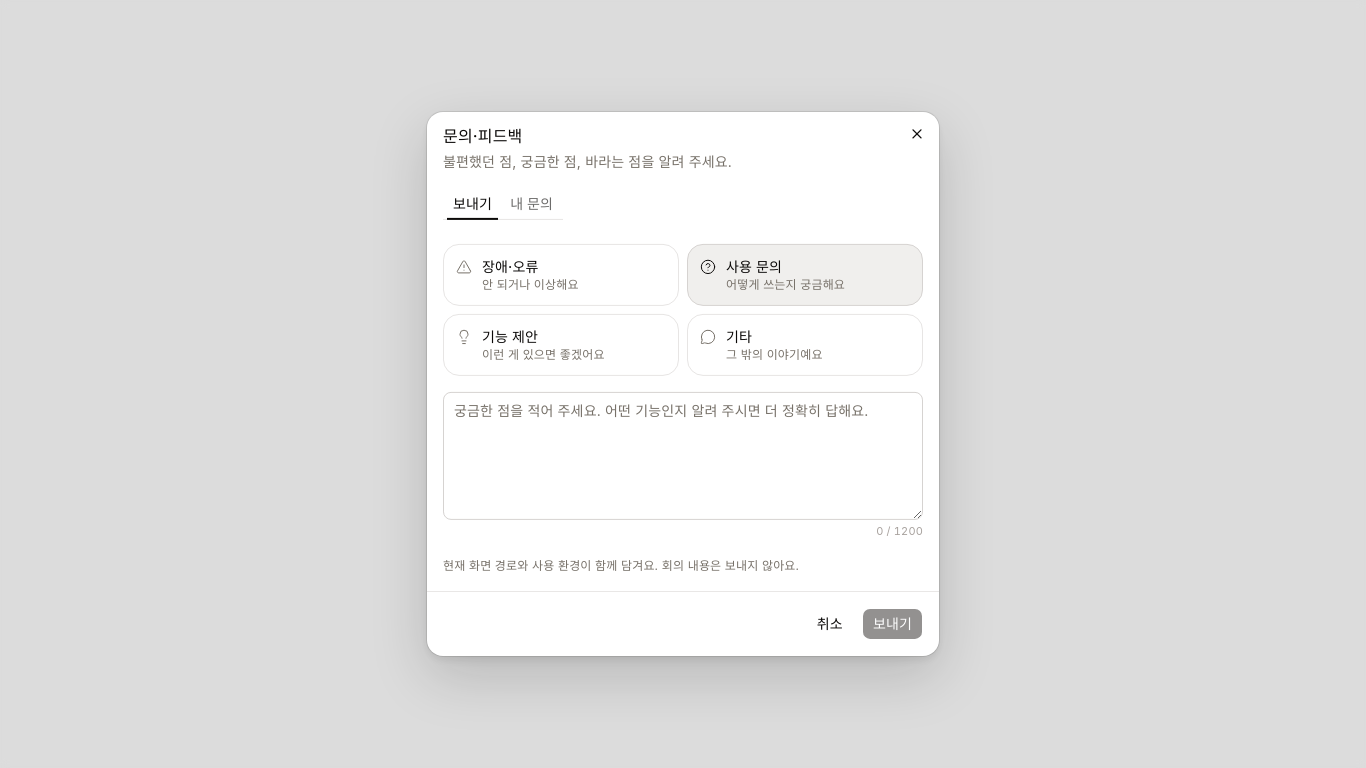
Test case: FeedbackDialog › 글자 수를 보여 주고 1200자에서 멈춘다
The image size is (1366, 768).
Type "가나다" into the text box named "내용" at [683, 456], box [443,392,923,520]
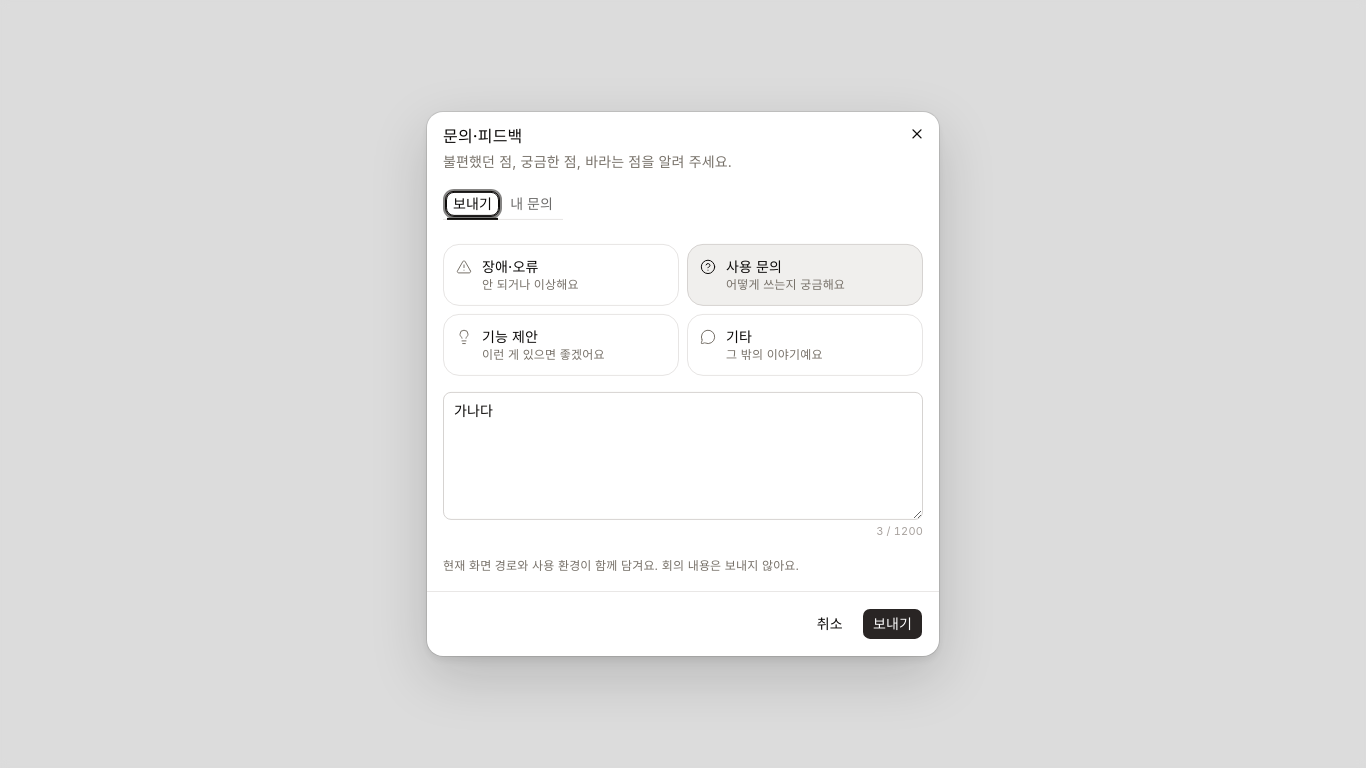
Result: the text "3 / 1200" is shown at [876,524,923,538]
